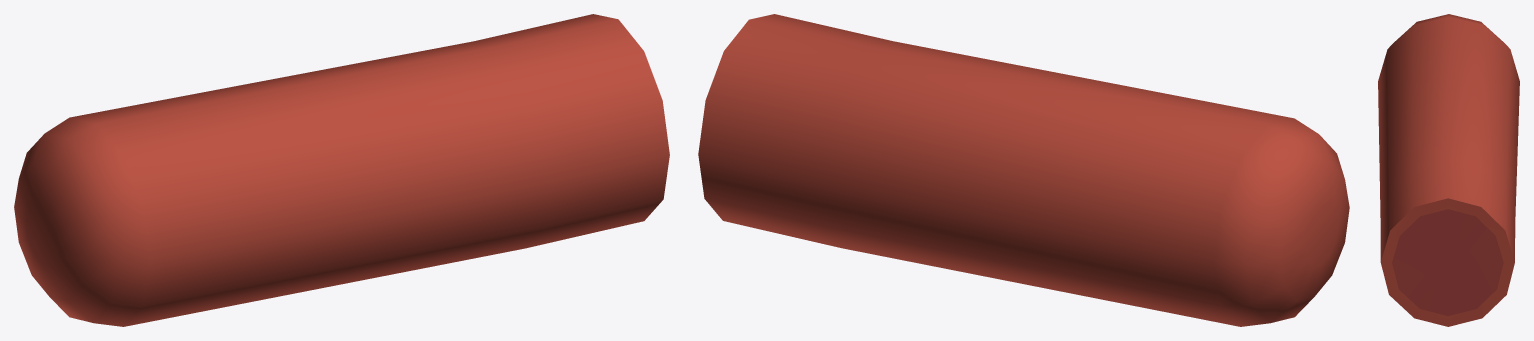
Rendered from Sausage_half.001.fbx.
3 views of the same model, side by side, from view 1: azimuth 30°, elevation 25°; view 2: azimuth 150°, elevation 25°; view 3: azimuth 270°, elevation 25° (orthographic). The views are drawn at different scales.
Visible parts, largest first — view 1: Sausage_half.001; view 2: Sausage_half.001; view 3: Sausage_half.001.
Part boxes in pixels (bbox=[...]): Sausage_half.001: bbox=[14, 14, 669, 326]; Sausage_half.001: bbox=[698, 14, 1349, 326]; Sausage_half.001: bbox=[1378, 14, 1519, 326].
Bounding box in the file's own units: 79.77 × 25.95 × 28.84.
